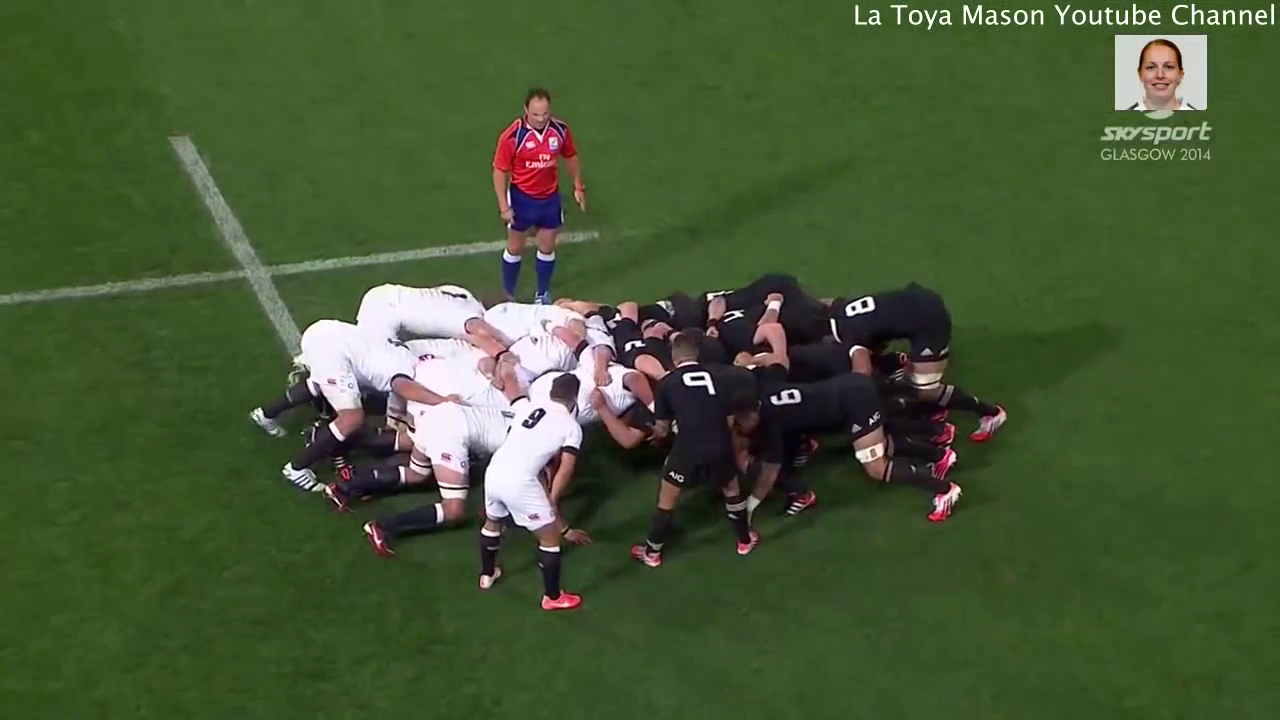player: (734, 361, 972, 529), (251, 306, 418, 523), (628, 331, 772, 574), (810, 272, 1009, 440), (467, 366, 590, 620), (473, 80, 590, 315), (347, 264, 506, 351)
scrum: (245, 257, 1014, 577)
